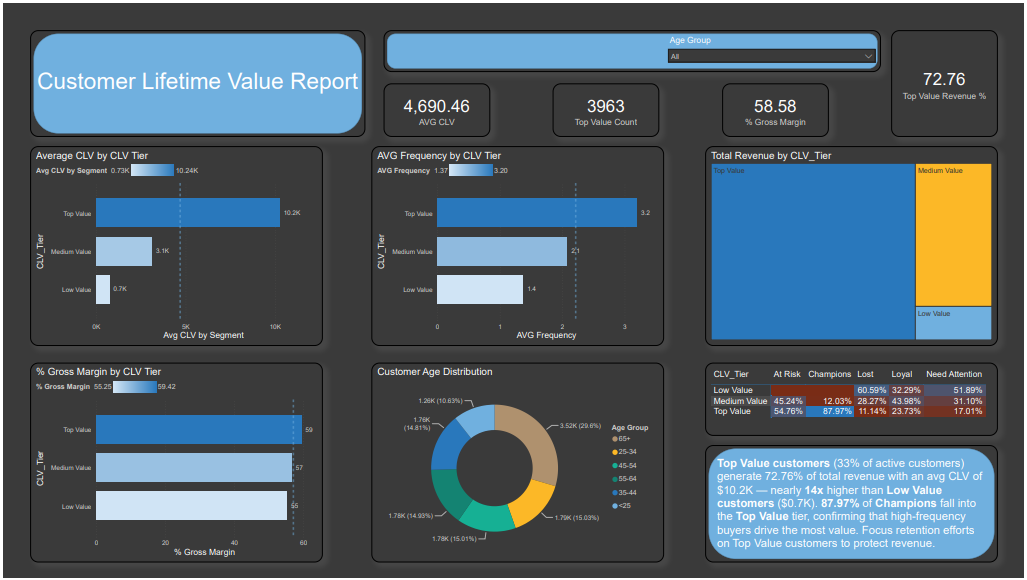

Layout of this report page (visuals, bound fields, positions):
{"tool":"powerbi","page":{"name":"CLV Segmentation","canvas":[1920,1080],"ordinal":1},"visuals":[{"type":"card","fields":{"Values":["Measure.AVG CLV"]},"box":[715,150,200,100],"z":0},{"type":"card","fields":{"Values":["Measure.Top Value Count"]},"box":[1033.3,150,200,100],"z":1000},{"type":"card","fields":{"Values":["Measure.% Gross Margin"]},"box":[1351.7,150,200,100],"z":2000},{"type":"card","fields":{"Values":["Measure.Top Value Revenue %"]},"box":[1670,50,200,200],"z":3000},{"type":"pivotTable","fields":{"Rows":["RFM_Segmentation.CLV_Tier"],"Columns":["RFM_Segmentation.Segment"],"Values":["Measure.Customer % by Segment"]},"box":[1320,675,550,136.7],"z":4000,"group":"g1"},{"type":"clusteredBarChart","title":"% Gross Margin by CLV Tier","fields":{"Category":["RFM_Segmentation.CLV_Tier"],"Y":["Measure.% Gross Margin"]},"box":[50,675,550,375],"z":5000},{"type":"clusteredBarChart","title":"Average CLV by  CLV Tier","fields":{"Y":["Measure.Avg CLV by Segment"],"Category":["RFM_Segmentation.CLV_Tier"]},"box":[50,268.3,550,375],"z":6000},{"type":"clusteredBarChart","title":"AVG Frequency by CLV Tier","fields":{"Category":["RFM_Segmentation.CLV_Tier"],"Y":["Measure.AVG Frequency"]},"box":[691.7,268.3,550,375],"z":7000},{"type":"treemap","fields":{"Group":["RFM_Segmentation.CLV_Tier"],"Values":["Measure.Total Revenue"]},"box":[1320,268.3,550,375],"z":8000},{"type":"shape","box":[1320,830,550,220],"z":9000,"group":"g1"},{"type":"textbox","box":[1336.7,846.7,516.7,186.7],"z":10000,"group":"g1"},{"type":"shape","box":[715,50,935,78.3],"z":11000},{"type":"slicer","fields":{"Values":["Customers_cleaned.Age Group"]},"box":[1240,55,410,78.3],"z":12000},{"type":"shape","box":[50,50,630,200],"z":13000},{"type":"textbox","box":[50,116.7,630,66.7],"z":14000},{"type":"donutChart","title":"Customer Age Distribution","fields":{"Category":["Customers_cleaned.Age Group"],"Y":["CountNonNull(Customers_cleaned.CustomerKey)"]},"box":[691.7,675,550,375],"z":14001},{"type":"group","id":"g1","title":"Group 1","box":[1320,675,550,375],"z":14002}]}

Visuals, with their boxes in screenshot pixels (x1, y1, x2, y2), scaled from the page's 1920x1080 canvas onto the 1027x580 screenshot:
card - Measure.AVG CLV: (left=382, top=81, right=489, bottom=134)
card - Measure.Top Value Count: (left=553, top=81, right=660, bottom=134)
card - Measure.% Gross Margin: (left=723, top=81, right=830, bottom=134)
card - Measure.Top Value Revenue %: (left=893, top=27, right=1000, bottom=134)
pivotTable - RFM_Segmentation.CLV_Tier x RFM_Segmentation.Segment: (left=706, top=363, right=1000, bottom=436)
"% Gross Margin by CLV Tier" clusteredBarChart: (left=27, top=363, right=321, bottom=564)
"Average CLV by  CLV Tier" clusteredBarChart: (left=27, top=144, right=321, bottom=345)
"AVG Frequency by CLV Tier" clusteredBarChart: (left=370, top=144, right=664, bottom=345)
treemap - RFM_Segmentation.CLV_Tier x Measure.Total Revenue: (left=706, top=144, right=1000, bottom=345)
shape: (left=706, top=446, right=1000, bottom=564)
textbox: (left=715, top=455, right=991, bottom=555)
shape: (left=382, top=27, right=883, bottom=69)
slicer - Customers_cleaned.Age Group: (left=663, top=30, right=883, bottom=72)
shape: (left=27, top=27, right=364, bottom=134)
textbox: (left=27, top=63, right=364, bottom=98)
"Customer Age Distribution" donutChart: (left=370, top=363, right=664, bottom=564)
"Group 1" group: (left=706, top=363, right=1000, bottom=564)
